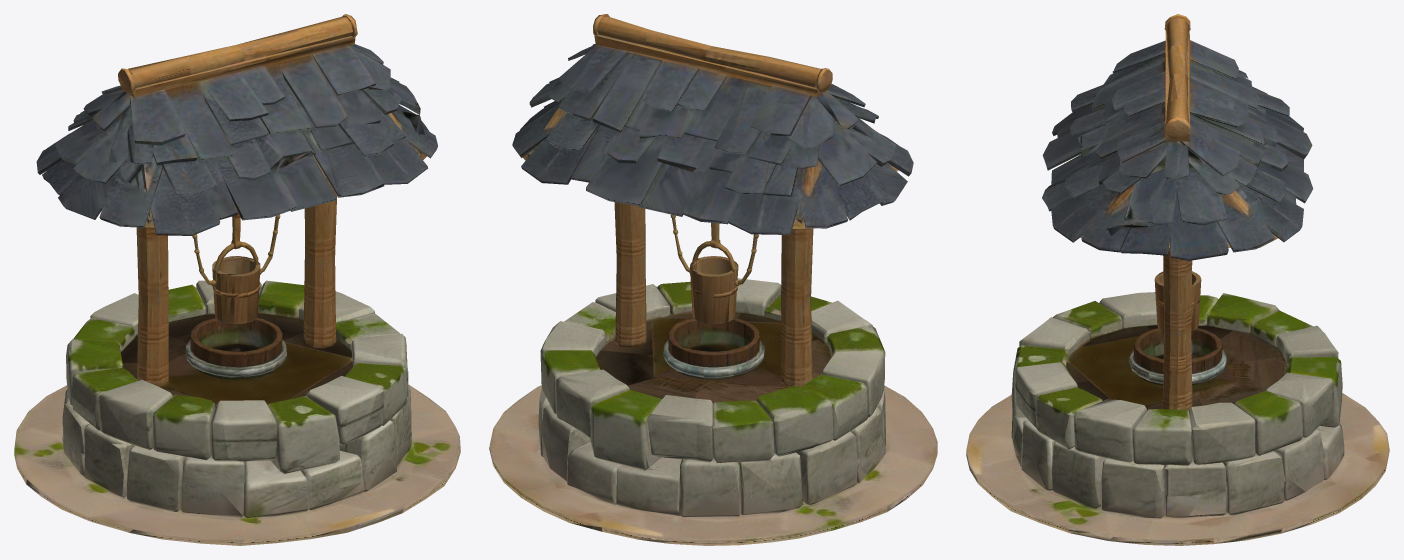
Rendered from well.glb.
3 views of the same model, side by side, from view 1: azimuth 30°, elevation 25°; view 2: azimuth 150°, elevation 25°; view 3: azimuth 270°, elevation 25° (orthographic). The views are drawn at different scales.
Bounding box in the file's own units: 2.58 × 2.6 × 2.56.
1 material, 1 textured.
